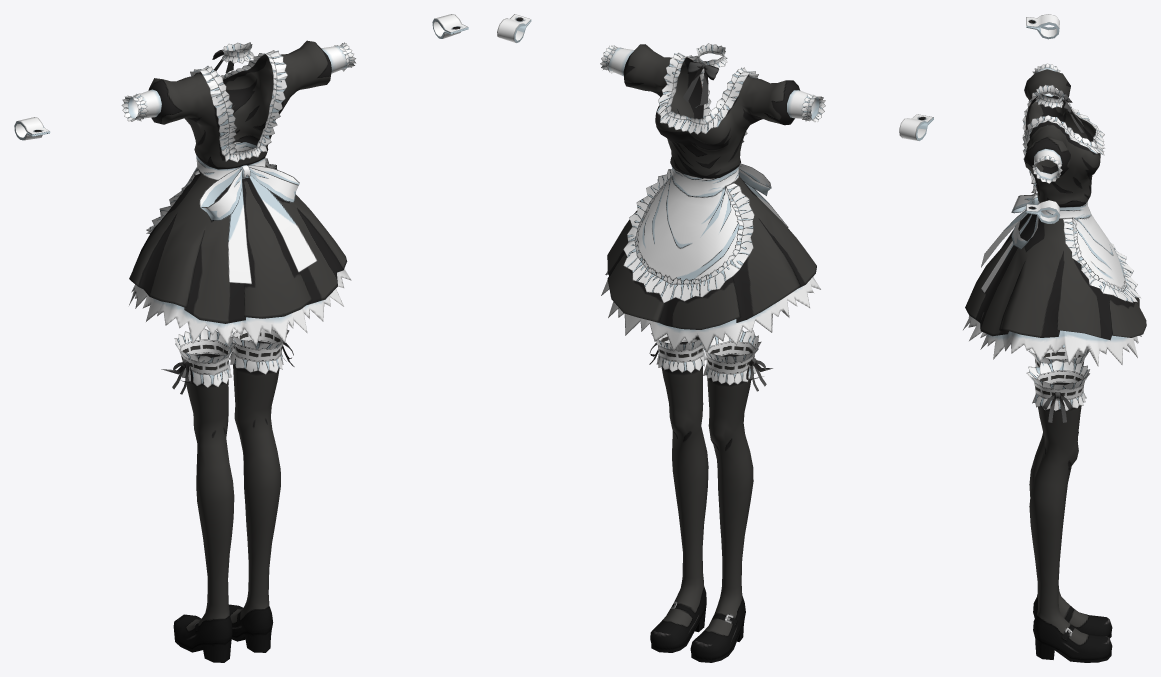
The model's file is saber_dress.gltf.
The picture shows the model from 3 angles, left to right: view 1: azimuth 30°, elevation 25°; view 2: azimuth 150°, elevation 25°; view 3: azimuth 270°, elevation 25°; orthographic projection. The views are drawn at different scales.
Visible parts, largest first — view 1: Saber_maid_dress; view 2: Saber_maid_dress; view 3: Saber_maid_dress.
Part boxes in pixels (<box>): Saber_maid_dress: <box>14,14,468,662</box>; Saber_maid_dress: <box>497,14,933,662</box>; Saber_maid_dress: <box>963,14,1146,662</box>.
Size of the model in its own units: 1.03 by 1.37 by 0.4121.
